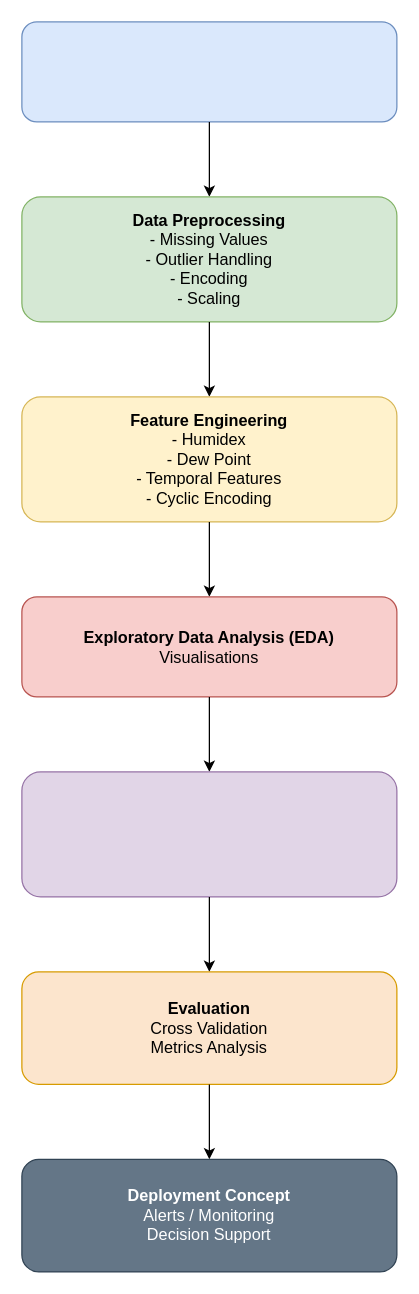
This 419x1294 diagram has some shape labels left out. The centre of each missing label's shape, as x and y in pixels:
Data Collection Meteorological APIs Environmental Data: (x=209, y=71)
Model Development Logistic Regression Random Forest Gradient Boosting: (x=209, y=834)
